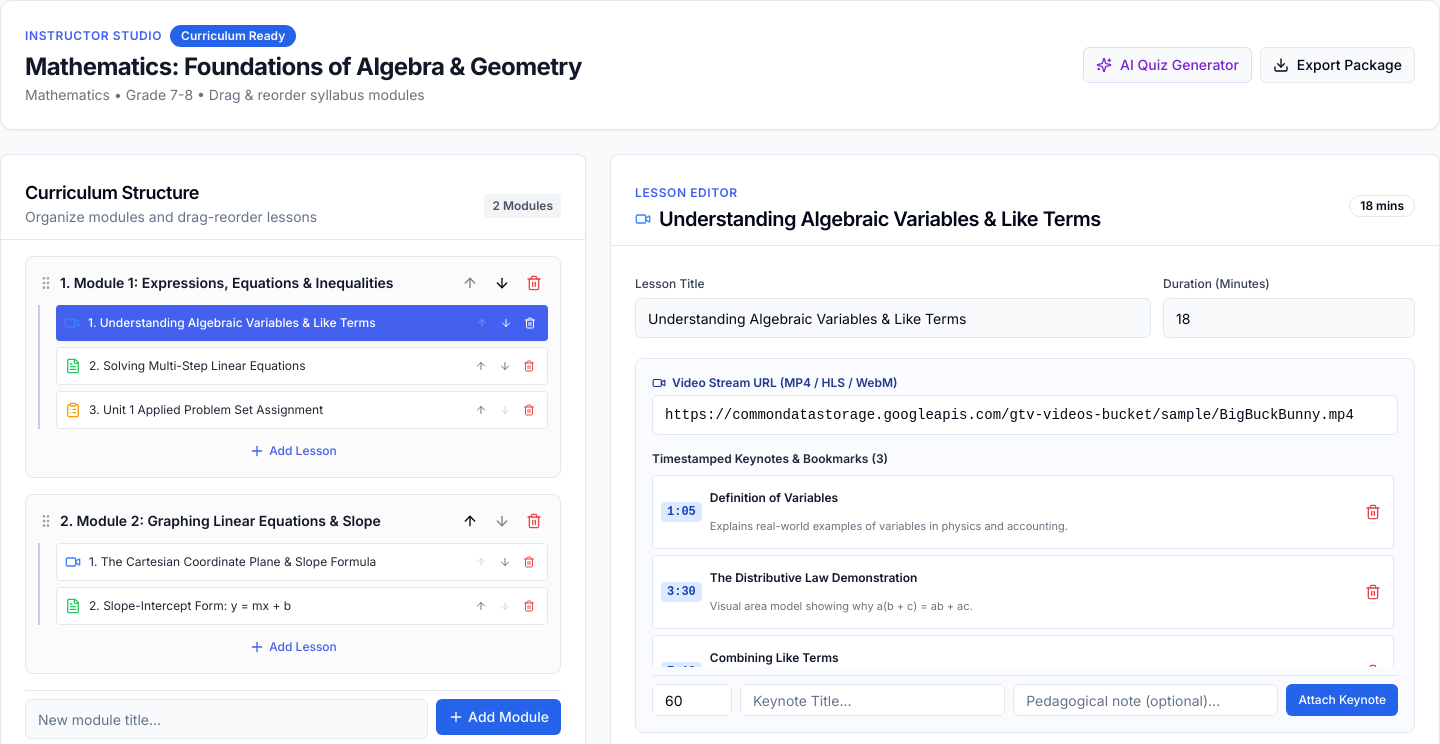
Test: CourseBuilderStudio Component › allows adding a new module to the curriculum
In the field with placeholder "New module title...": (227, 719) [25,699,428,739], type "Module 3: Quadratic Equations"
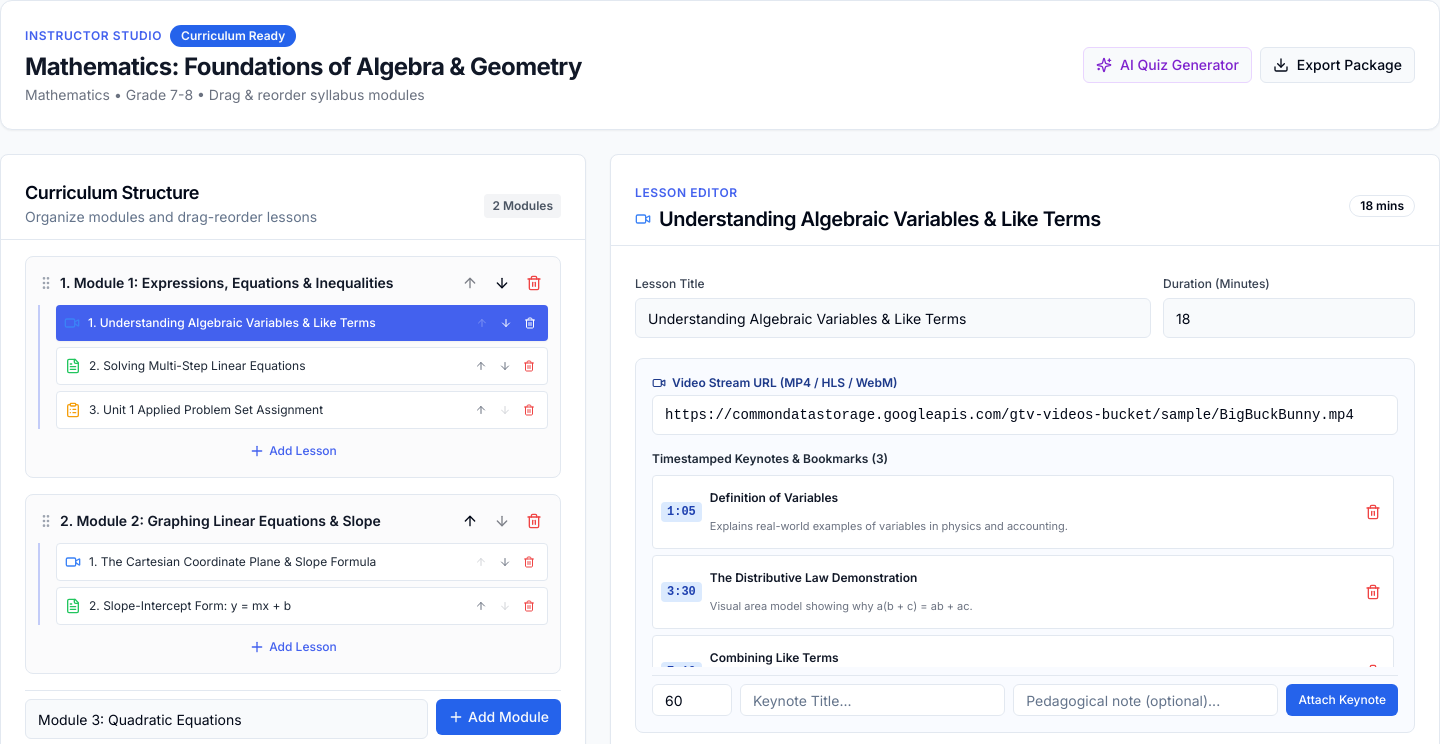
Click the button "Add Module": (499, 717) [436,699,561,735]
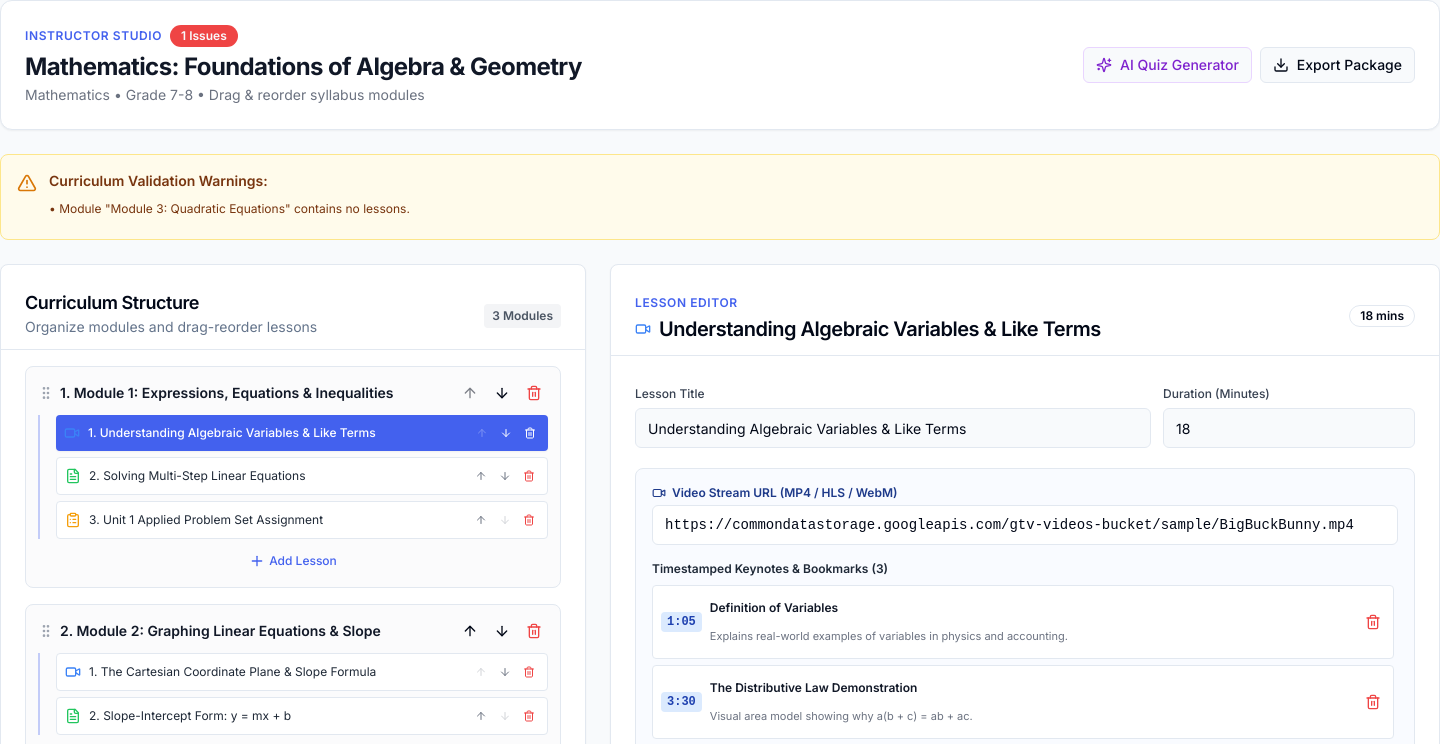
Expected: the text "Module 3: Quadratic Equations" is shown, [59,201,410,216]
